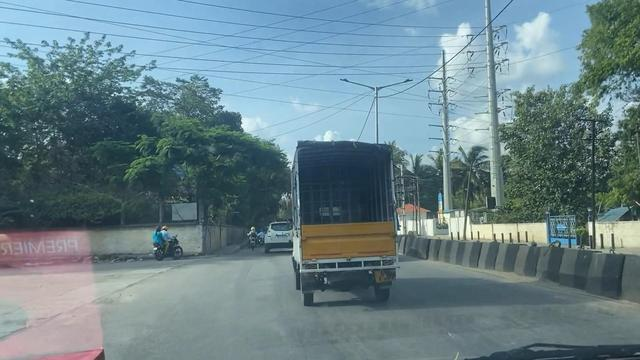HMV: (288, 141, 396, 301)
RoadDamages: (1, 261, 175, 336)
